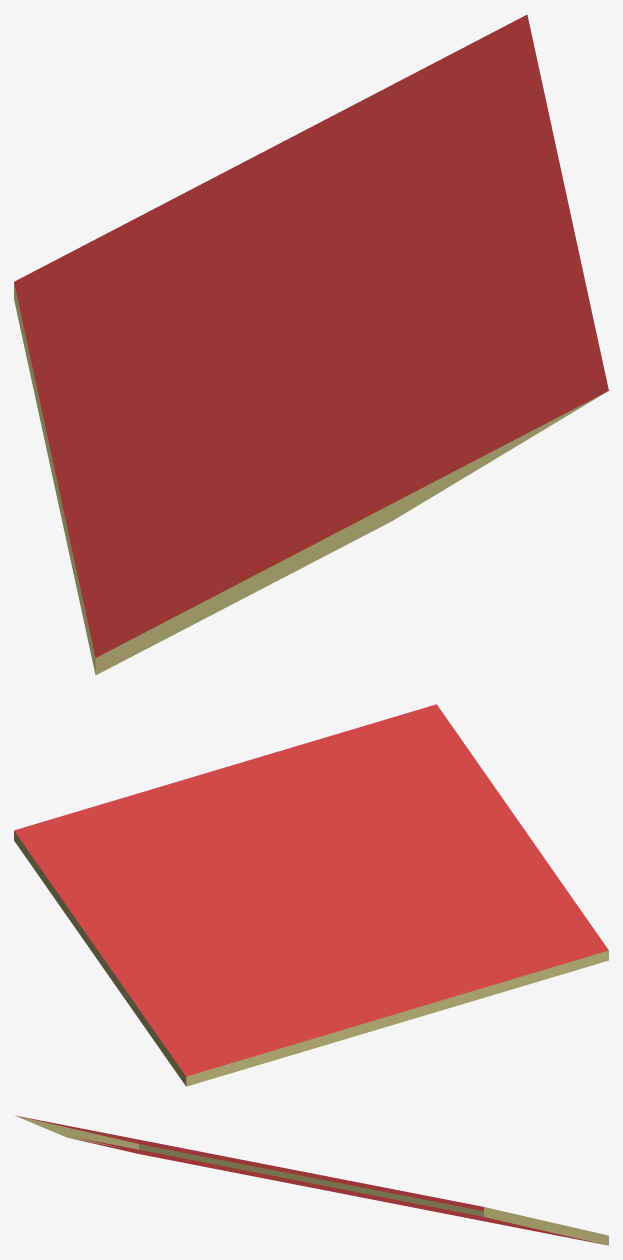
The picture shows the model from 3 angles, top to bottom: view 1: azimuth 30°, elevation 25°; view 2: azimuth 150°, elevation 25°; view 3: azimuth 270°, elevation 25°; orthographic projection. The views are drawn at different scales.
Bounding box in the file's own units: 4.39 × 5.35 × 1.52.
